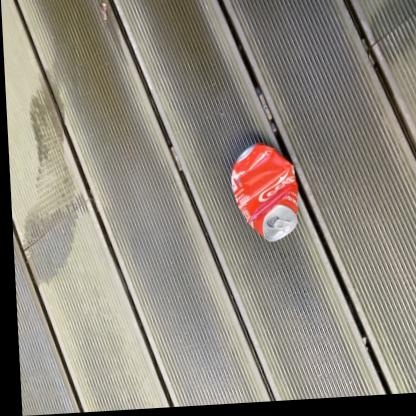trash: (231, 144, 297, 241)
